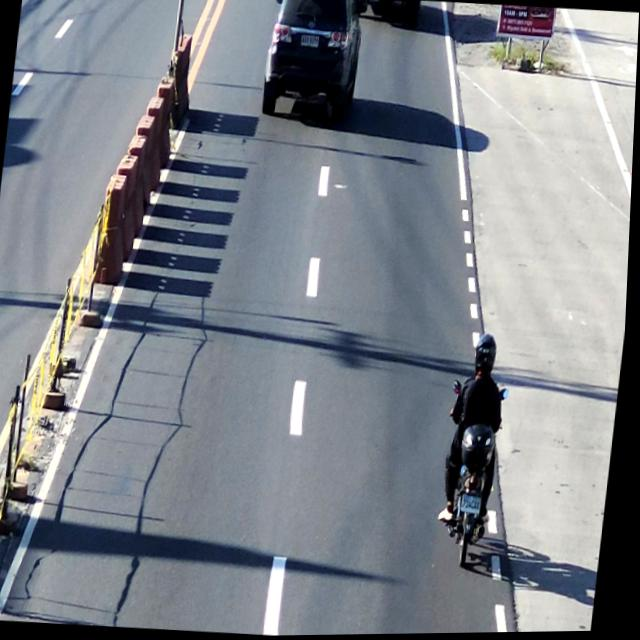Car: (258, 0, 368, 131)
License-Plate: (459, 494, 490, 518), (296, 31, 321, 51)
Motorcycle: (436, 336, 520, 579)
